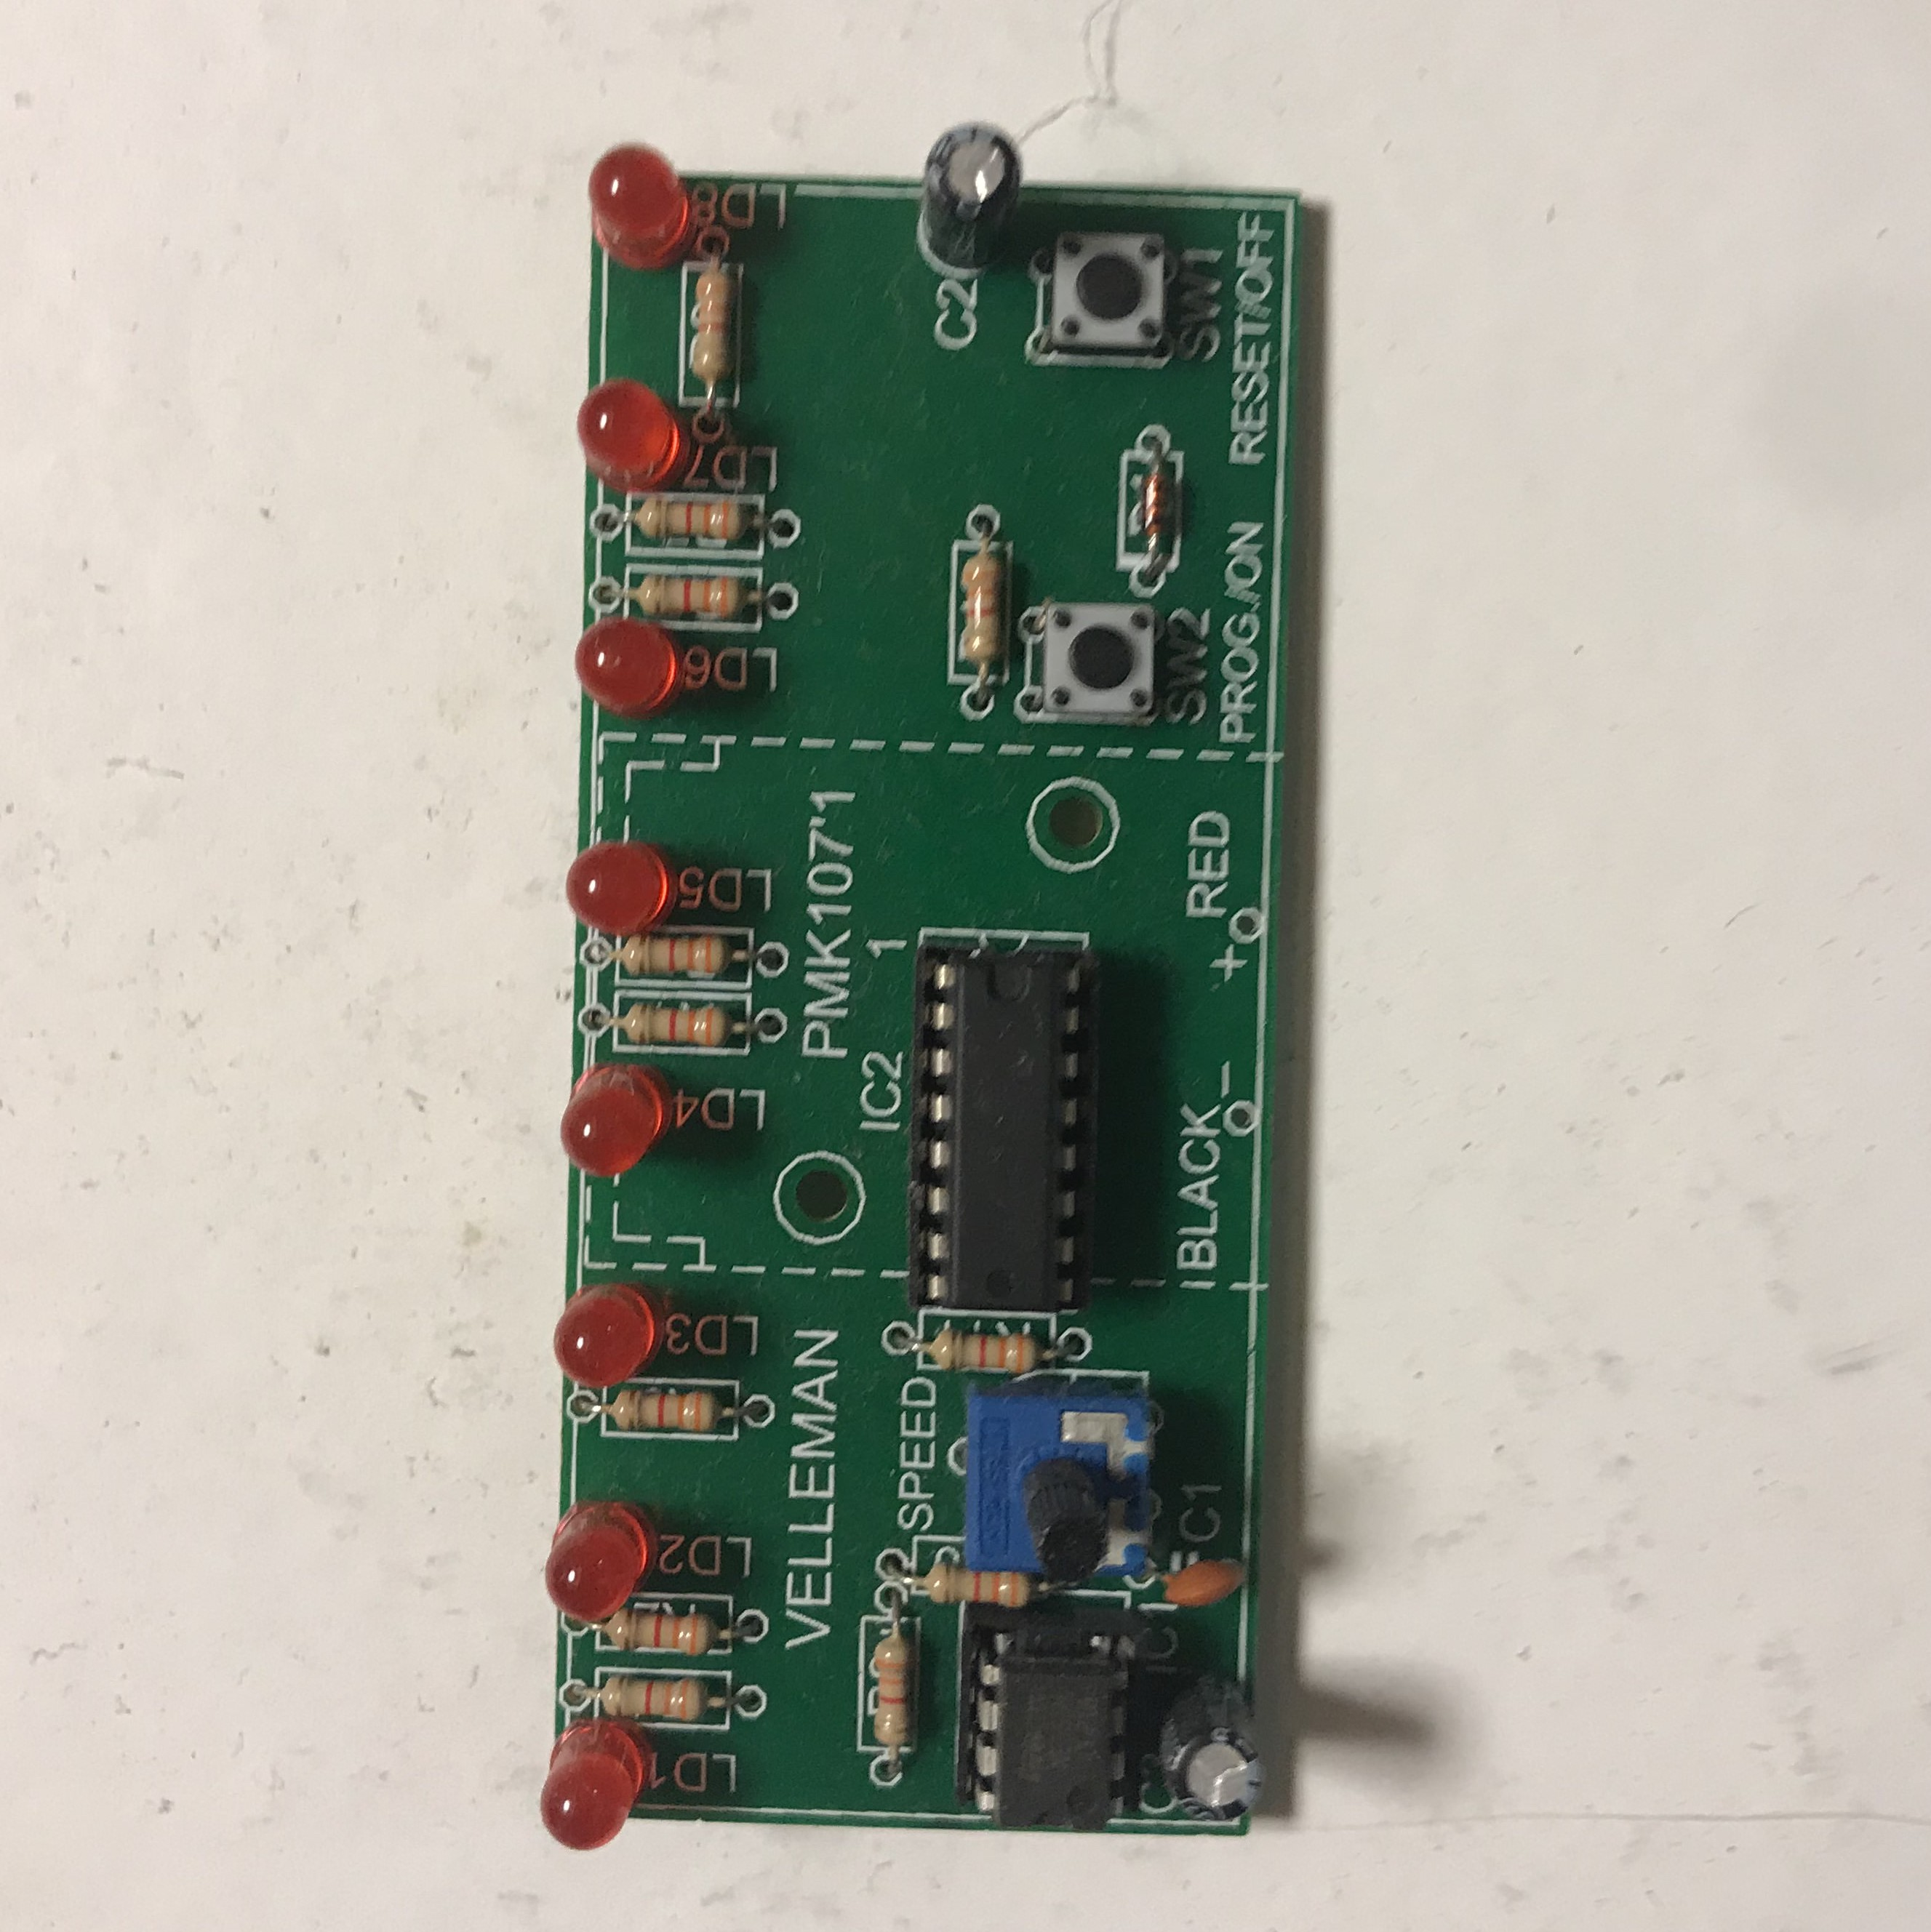Capacitor: (1153, 1674, 1266, 1833), (914, 120, 1024, 279)
Diode: (1135, 460, 1176, 550)
LED: (539, 1720, 647, 1854), (589, 140, 693, 269), (557, 1062, 668, 1183), (543, 1501, 654, 1621), (573, 375, 684, 488), (569, 615, 679, 716), (553, 1283, 656, 1389), (564, 838, 672, 935)
Resistor: (621, 490, 755, 551), (920, 1320, 1050, 1381), (686, 263, 744, 392), (955, 550, 1011, 675), (598, 1605, 723, 1658), (594, 1669, 714, 1723), (631, 573, 755, 622), (619, 995, 736, 1046), (920, 1563, 1038, 1612), (615, 930, 737, 977), (605, 1388, 725, 1435), (874, 1619, 914, 1748)
